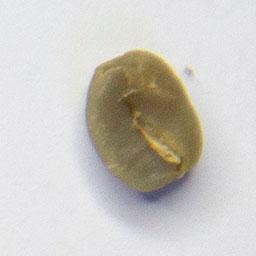premium: (82, 46, 206, 195)
